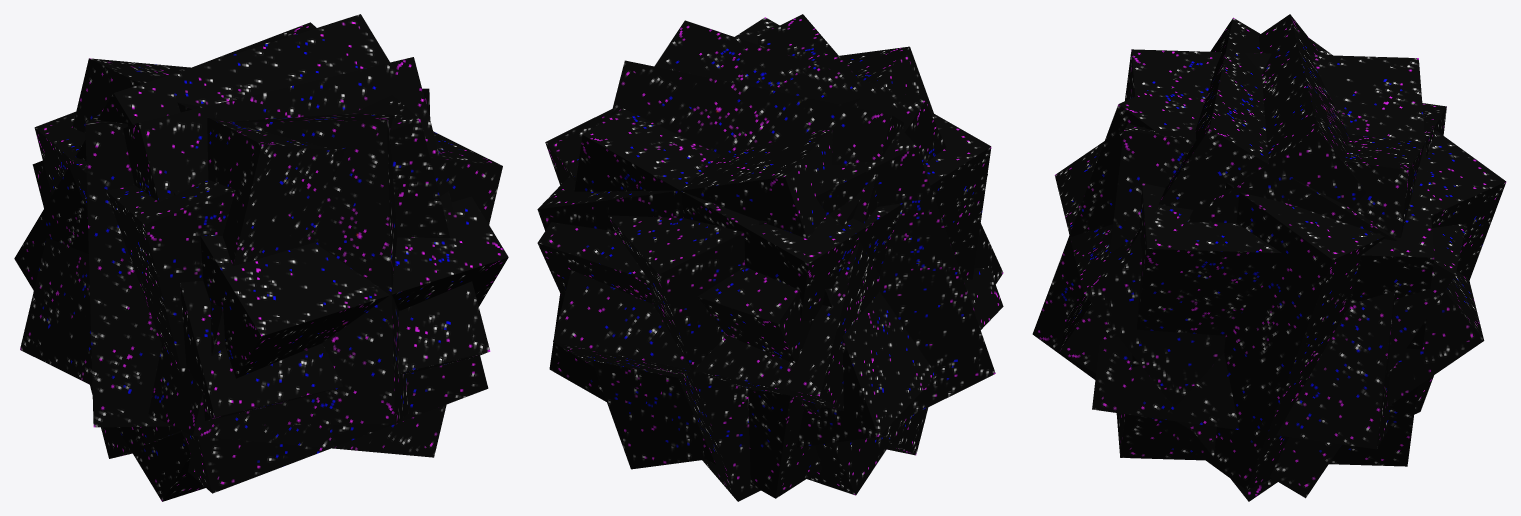
File: timerspawn.obj
The picture shows the model from 3 angles, left to right: view 1: azimuth 30°, elevation 25°; view 2: azimuth 150°, elevation 25°; view 3: azimuth 270°, elevation 25°; orthographic projection. The views are drawn at different scales.
Visible parts, largest first — view 1: Cube.001_Cube; view 2: Cube.001_Cube; view 3: Cube.001_Cube.
Boxes of the visible parts, <box> form: Cube.001_Cube: <box>14,14,508,501</box>; Cube.001_Cube: <box>537,14,1003,501</box>; Cube.001_Cube: <box>1032,14,1506,501</box>.
Size of the model in its own units: 0.5793 by 0.5358 by 0.623.
